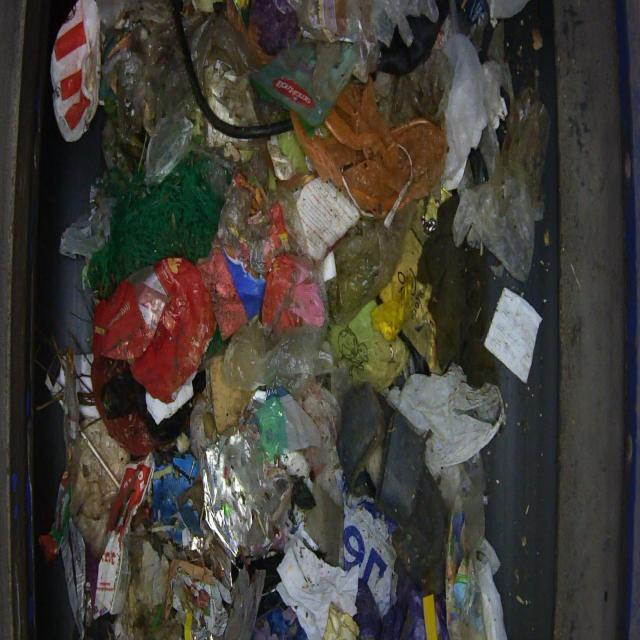organic-waste: (40, 1, 547, 638)
